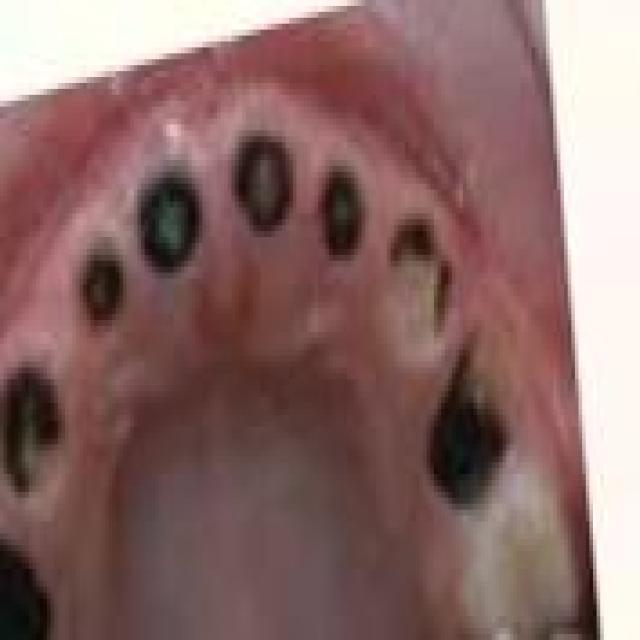caries: (409, 322, 525, 522), (214, 111, 311, 255), (374, 197, 458, 353), (0, 344, 76, 516), (126, 152, 212, 292), (62, 214, 137, 351), (312, 147, 378, 283)
